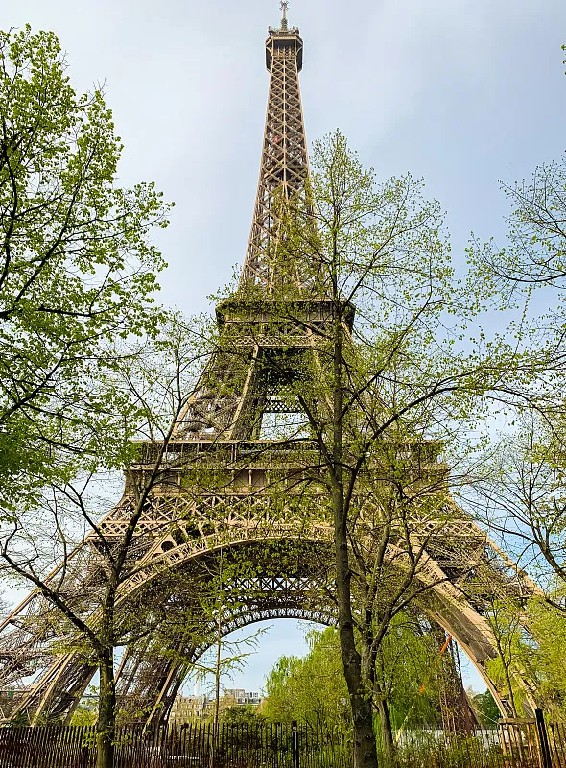Eiffel: (3, 1, 558, 726)
